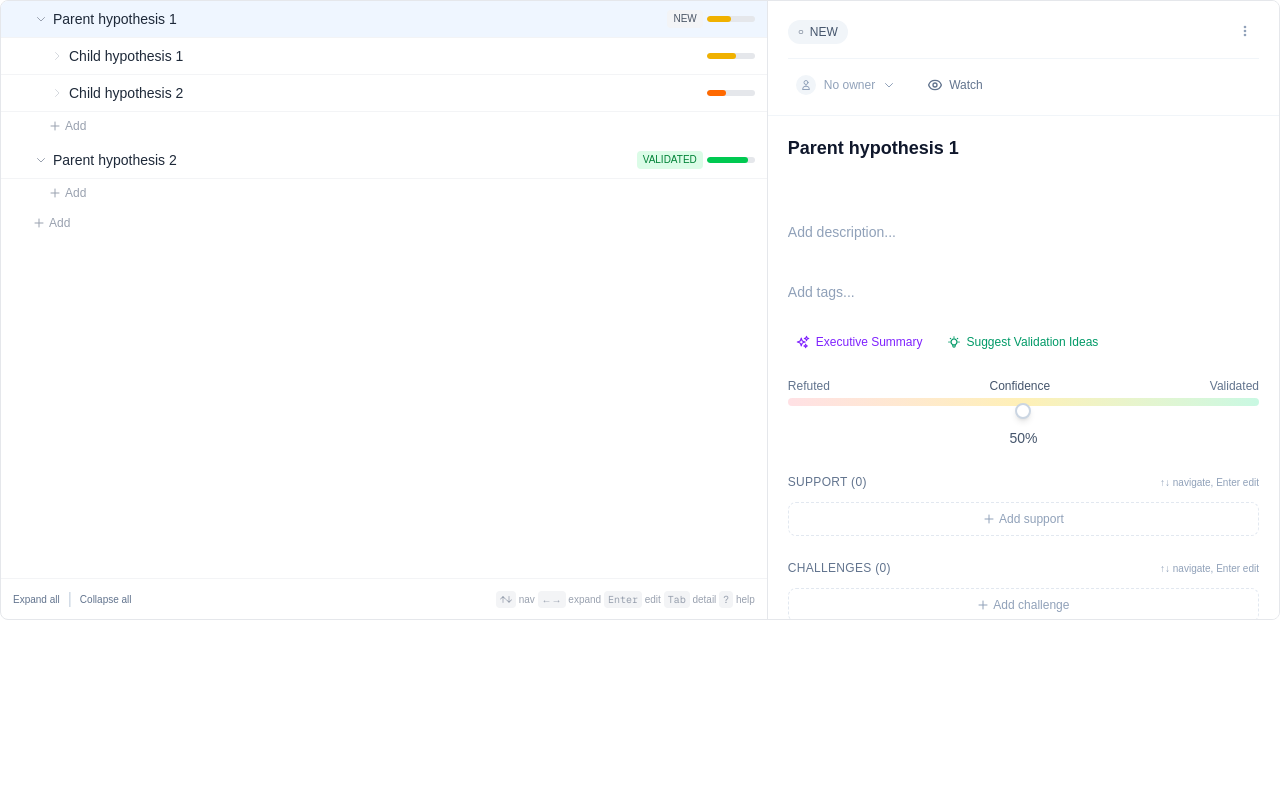
Test: SplitView › Add New Hypothesis Flow › shows inline title input when +Add is clicked under parent
The width and height of the screenshot is (1280, 800).
Click the text "Add" below "Child hypothesis 2" at coordinates (68, 126), box [49, 118, 86, 134]
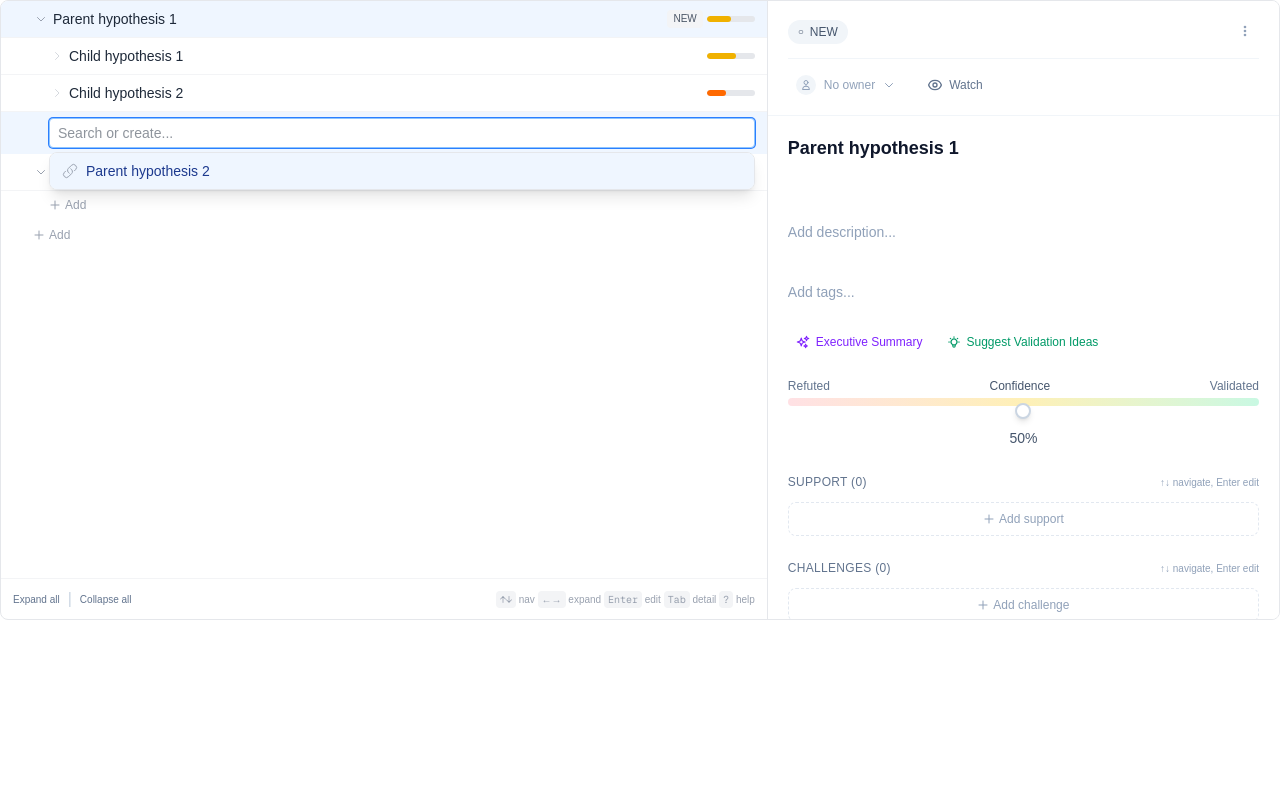
Now the field with placeholder "Search or create..." is shown, box [49, 118, 755, 148]
